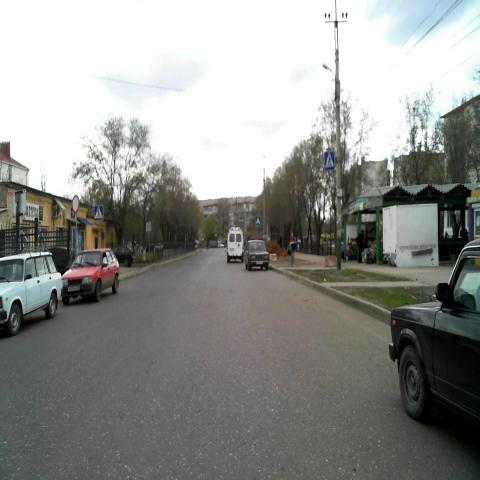3_2: (72, 194, 79, 212)
